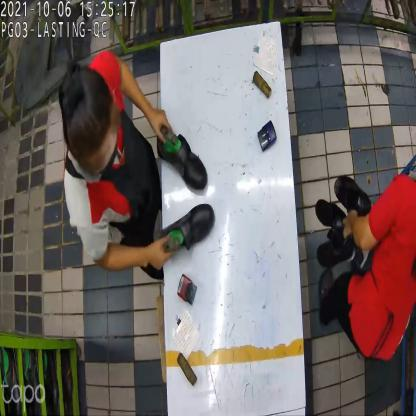shoes: (156, 127, 214, 251), (311, 201, 359, 265)
stamp: (176, 274, 199, 310), (256, 120, 276, 156)
